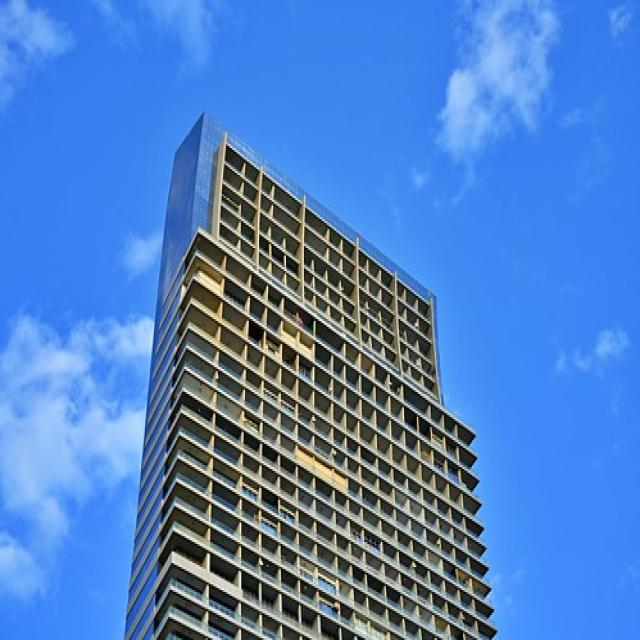building: (118, 105, 503, 640)
